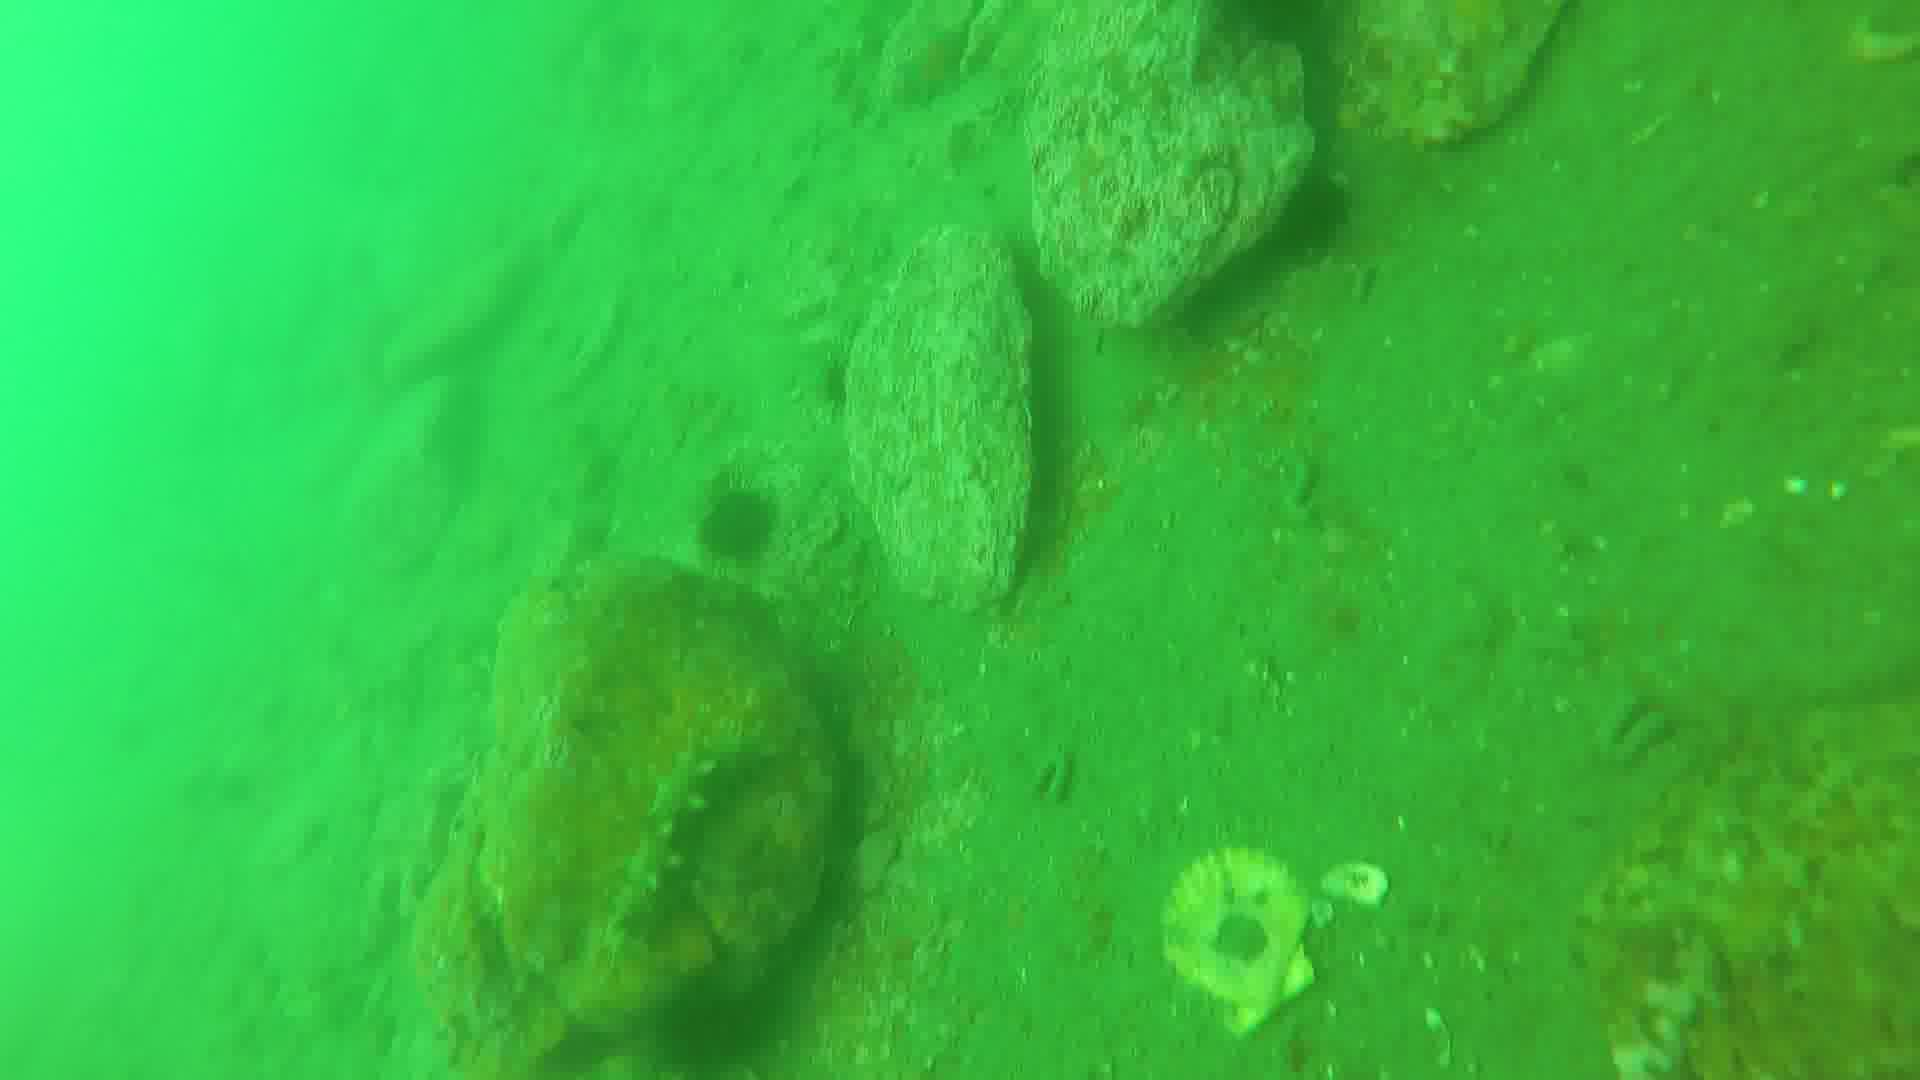echinus: (694, 487, 769, 568)
scallop: (1162, 845, 1315, 1036)
